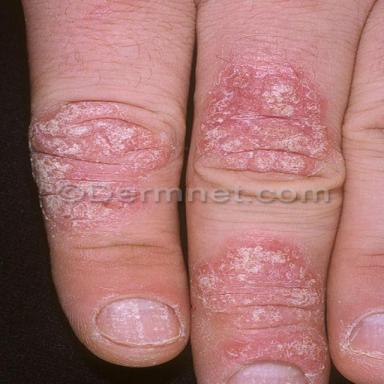Psoriasis: (191, 233, 330, 384), (199, 61, 331, 176), (29, 101, 174, 195)
